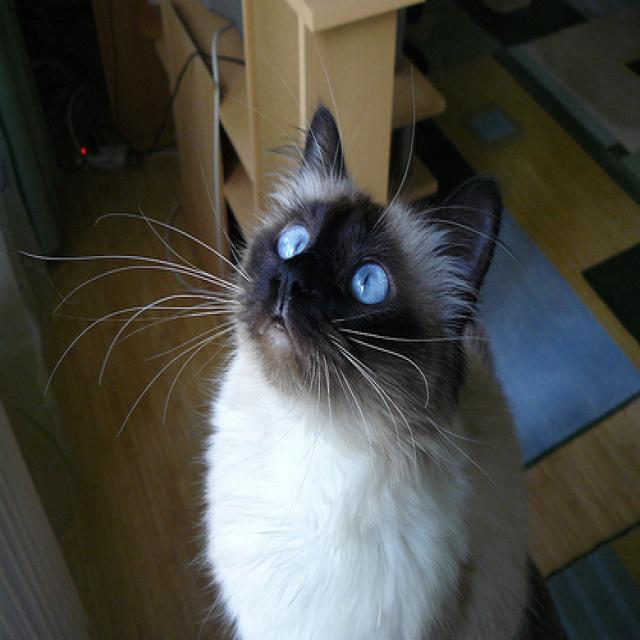Birman: (198, 95, 516, 435)
